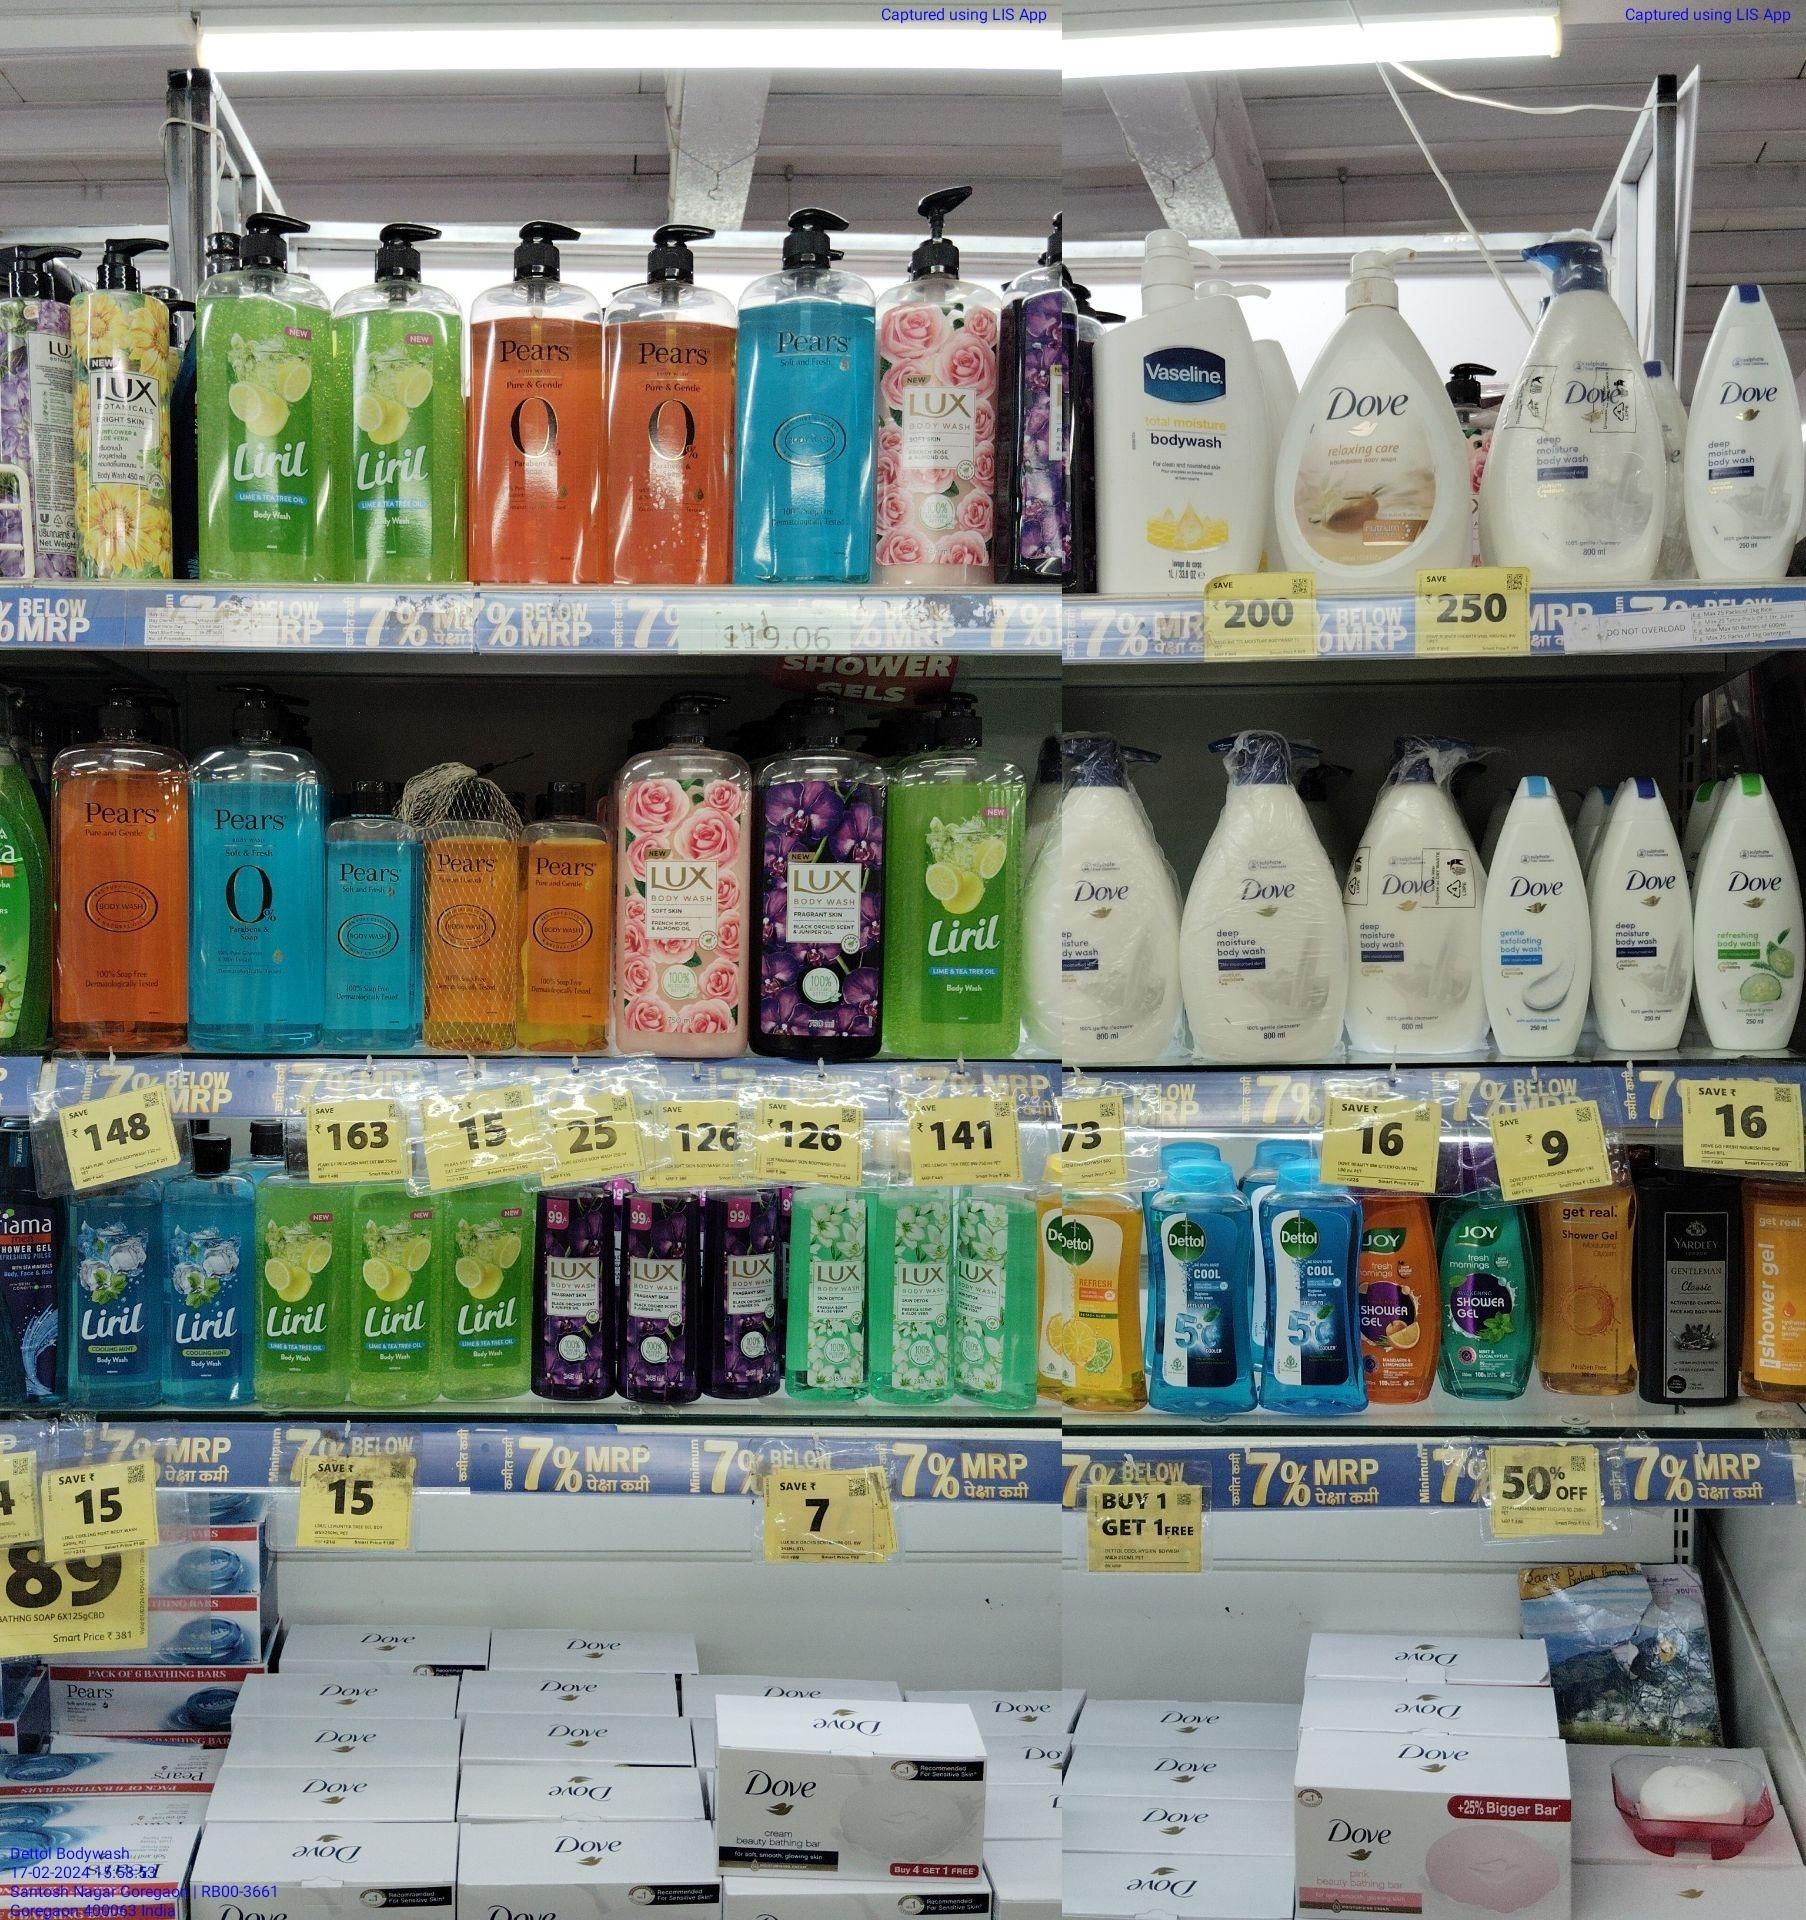Dettol_Bodywash_Cool: (1151, 1154, 1256, 1419), (1266, 1154, 1358, 1416)
Dettol_Bodywash_Refresh: (1061, 1195, 1144, 1414)
Dove_Deep_Moisture_Body_Wash_250ML: (1682, 273, 1803, 586), (1597, 778, 1692, 1056)
Dove_Gentle_Exfoliating_Body_Wash_250ML: (1478, 781, 1589, 1051)
Dove_Refreshing_Body_Wash_250ML: (1692, 767, 1804, 1054)
Get_Real_Shower_Gel_Moisturising_Glycerin_300ML: (1541, 1192, 1635, 1402)
Joy_Shower_Gel_Mandarin_and_Lemongrass_250ML: (1363, 1187, 1438, 1399)
Joy_Shower_Gel_Mint_and_Eucalyptus_250ML: (1443, 1192, 1526, 1414)
Liril_Cooling_Mint_Body_Wash_250ML: (170, 1136, 256, 1401), (73, 1178, 161, 1407)
Liril_Lime_and_Tea_Tree_Oil_Body_Wash_250ML: (350, 1178, 438, 1414), (266, 1165, 350, 1412), (446, 1185, 535, 1404)
Lux_Black_Orchid_Scent_and_Juniper_Oil_Body_Wash_245ML: (625, 1192, 703, 1406), (543, 1183, 614, 1407), (711, 1192, 784, 1401)
Lux_Body_Wash_Skin_Detox_Freesia_Scent_and_Alove_Vera_245ML: (798, 1187, 869, 1402), (961, 1183, 1029, 1407), (881, 1188, 951, 1402)
